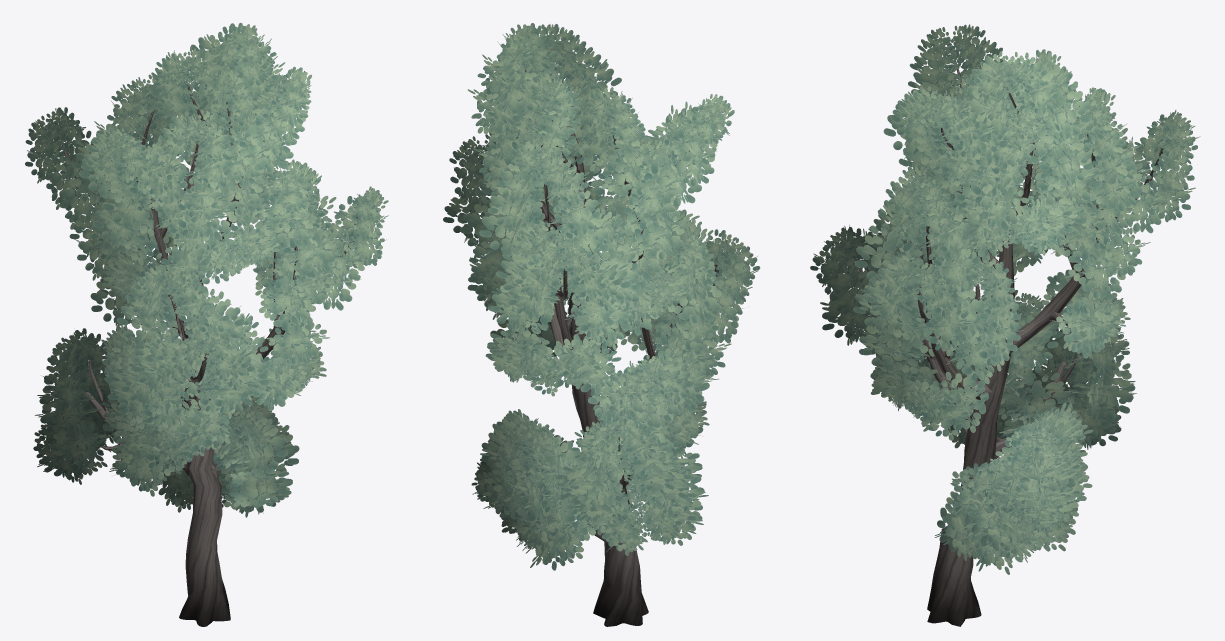
The model's file is TwistedTree_4.glb.
3 renders of one model, left to right at view 1: azimuth 30°, elevation 25°; view 2: azimuth 150°, elevation 25°; view 3: azimuth 270°, elevation 25°, orthographic. The views are drawn at different scales.
Visible parts, largest first — view 1: TwistedTree_4; view 2: TwistedTree_4; view 3: TwistedTree_4.
Part boxes in pixels (bbox=[...]): TwistedTree_4: bbox=[25, 22, 388, 626]; TwistedTree_4: bbox=[443, 23, 760, 626]; TwistedTree_4: bbox=[810, 24, 1200, 626].
Size of the model in its own units: 10.78 by 18.88 by 11.62.
Materials: 2 (2 with a texture image).
